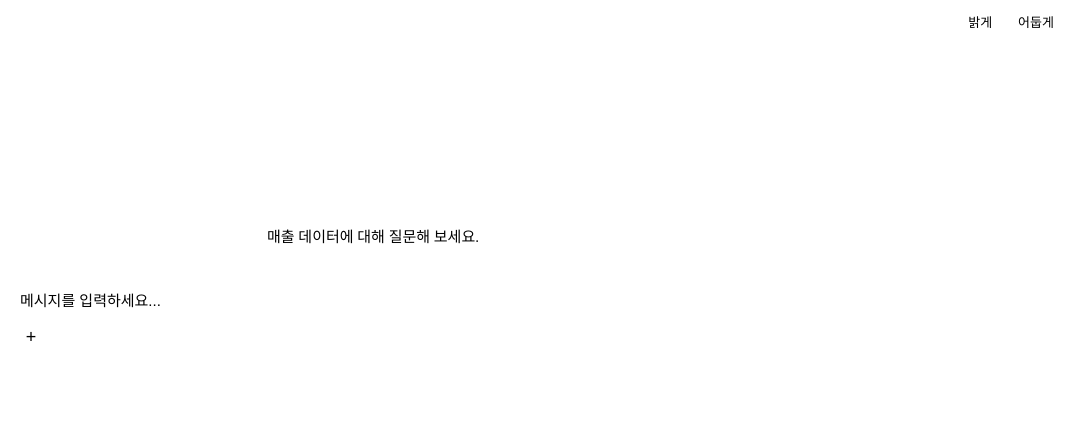
Test case: Chat - 순위 변동 셀 색상 › 변동 없음(-)이나 일반 텍스트/숫자 셀에는 색을 넣지 않는다
In the field with placeholder "메시지를 입력하세요...": coordinates (376, 300) [16,288,736,313], type "순위 변동 보여줘"
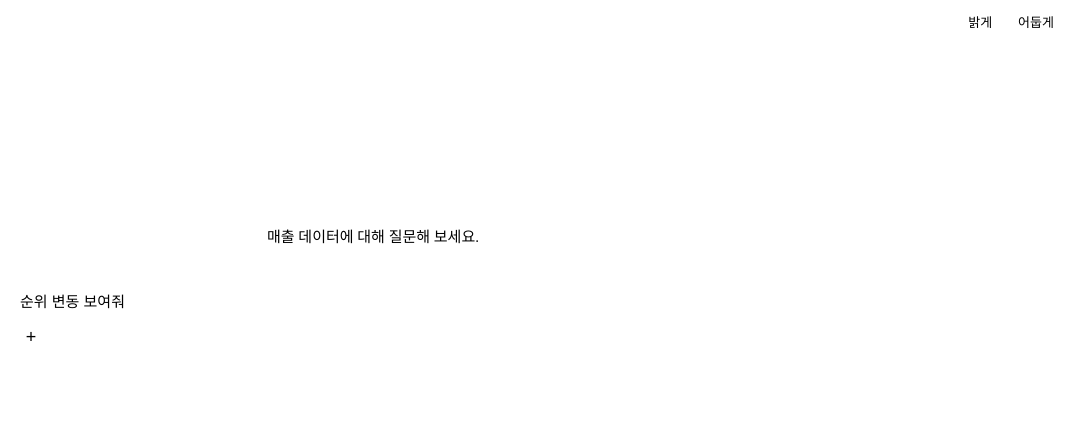
Press Enter in the field with placeholder "메시지를 입력하세요...", box [16,288,736,313]
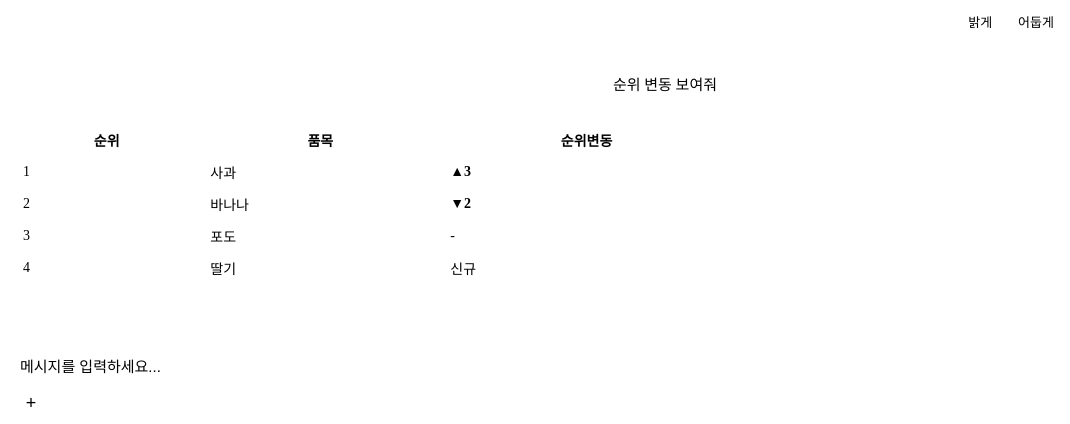
Expected: the text "▲3" is shown, [440,156,733,188]
